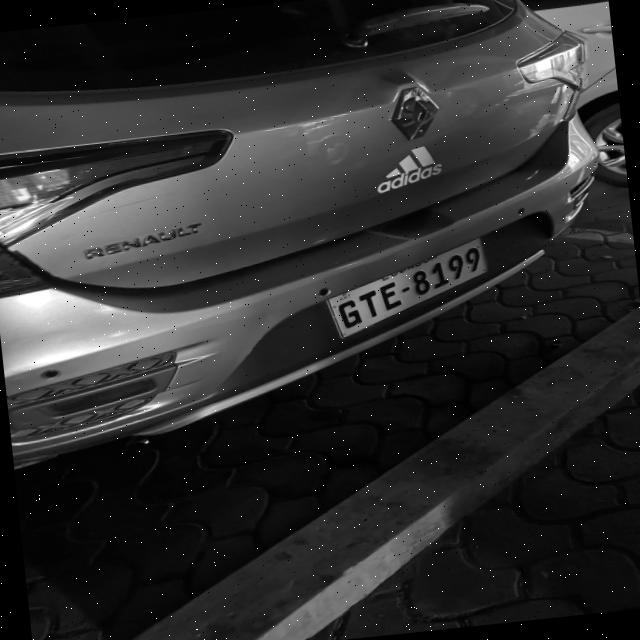Placa: (328, 239, 486, 337)
